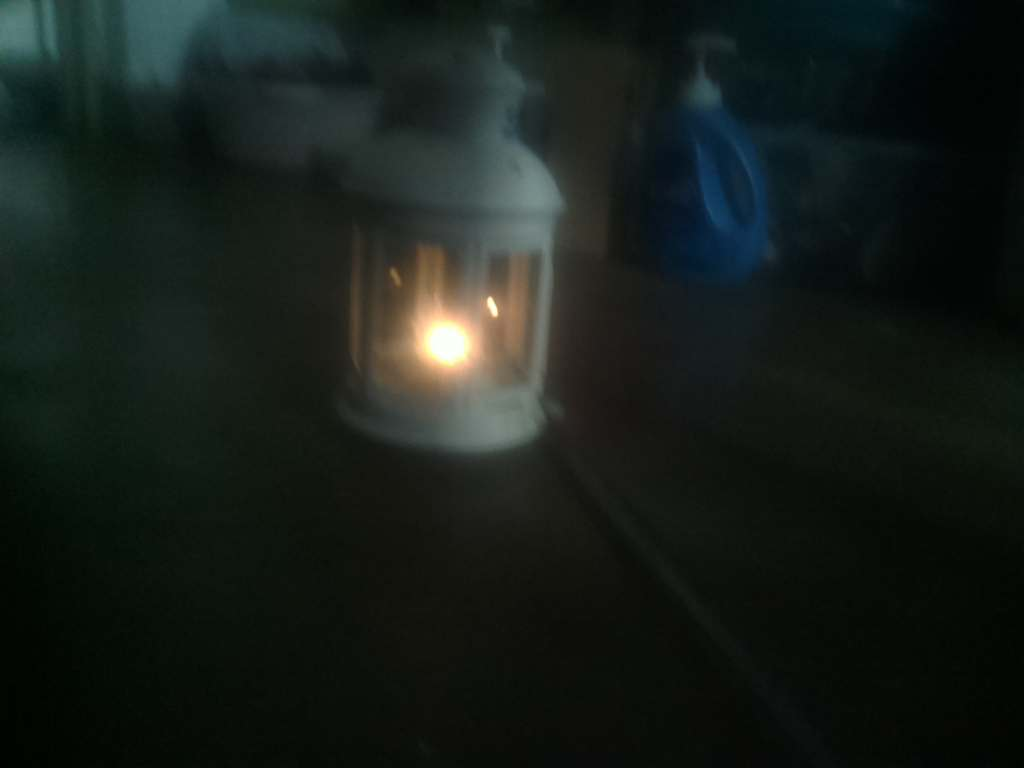fire: (387, 283, 530, 424)
